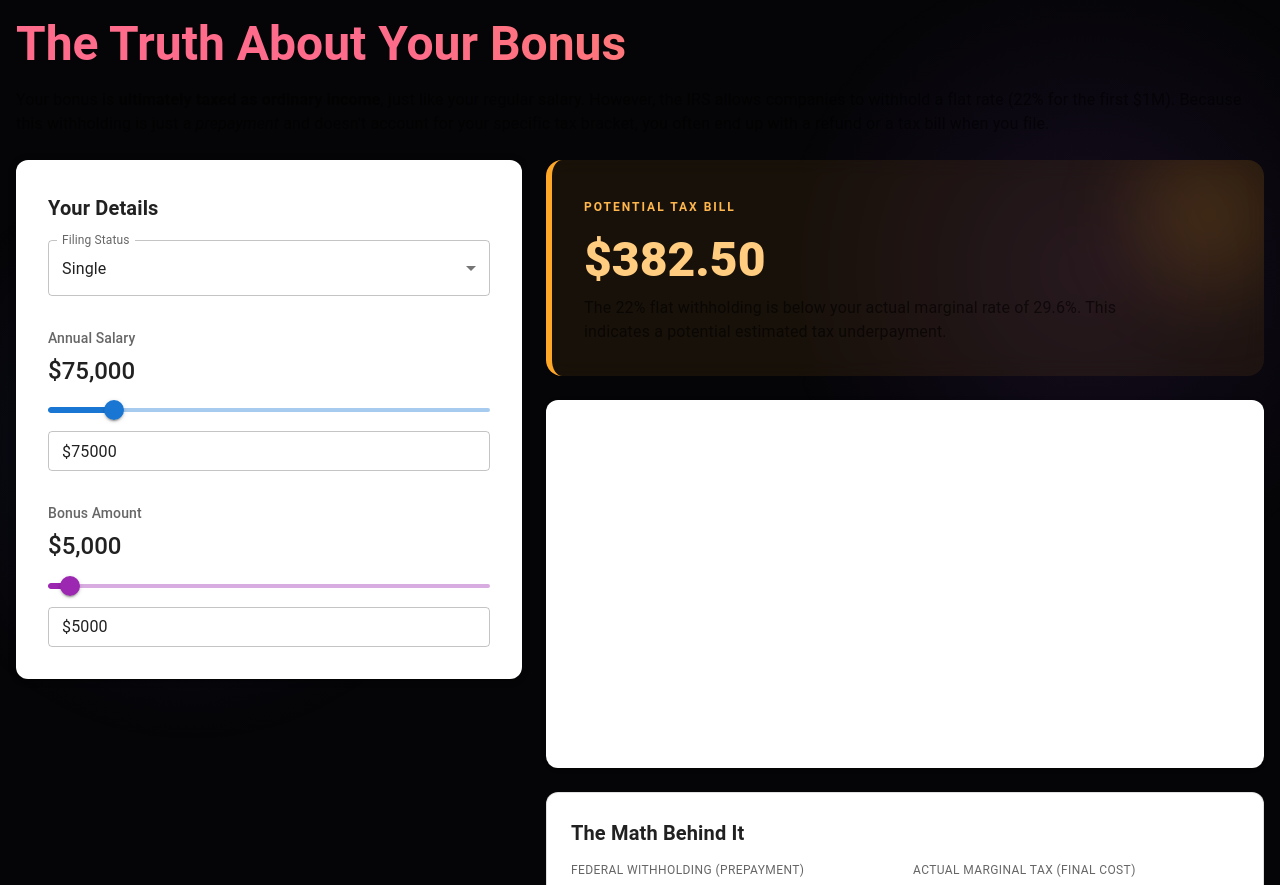
Test: BonusTruth Component › calculates tax difference correctly for default values
// Change Salary to 30000
Replace the text in the number field below "75,000" with "30000": (281, 451) [71, 431, 490, 471]
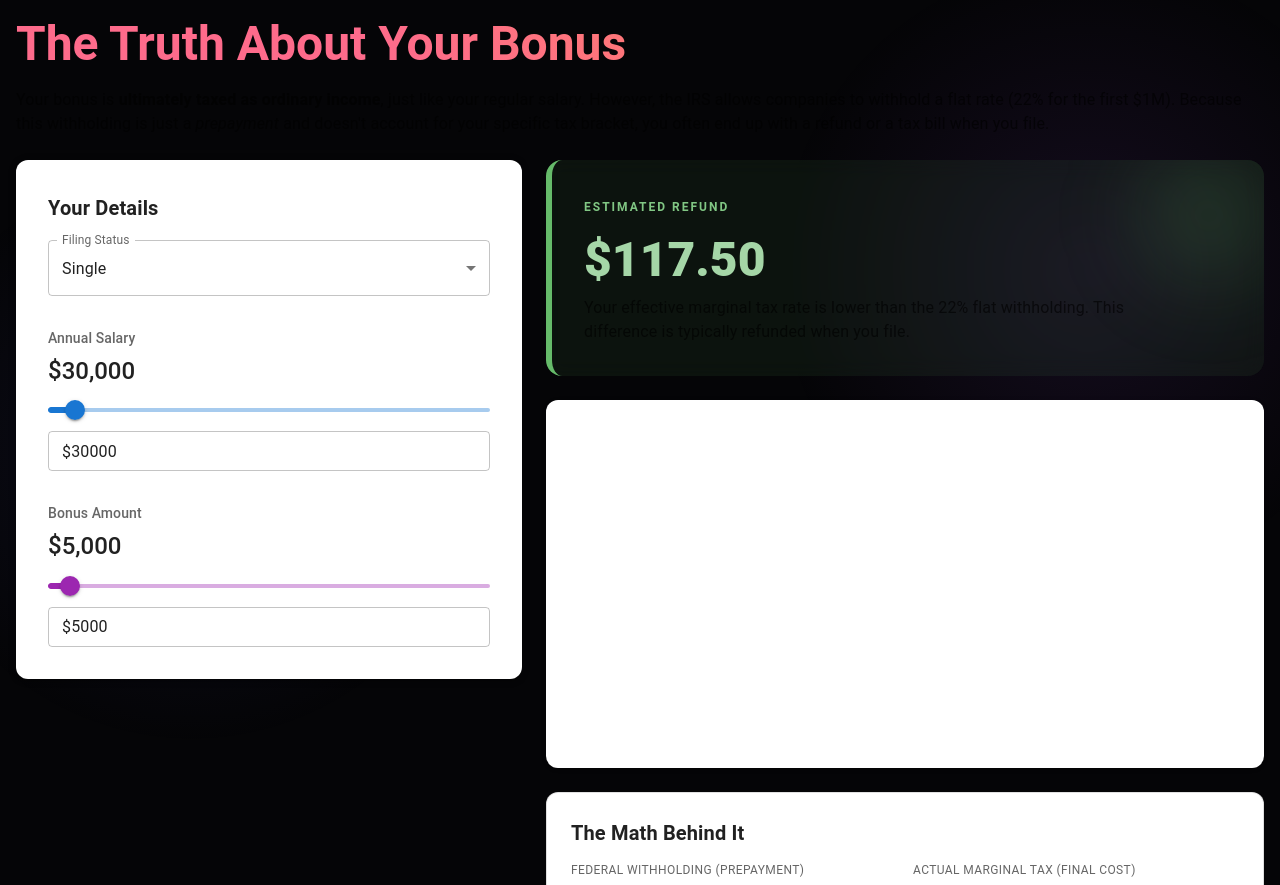
Expected: the text "ESTIMATED REFUND" is shown, [584, 200, 729, 214]
